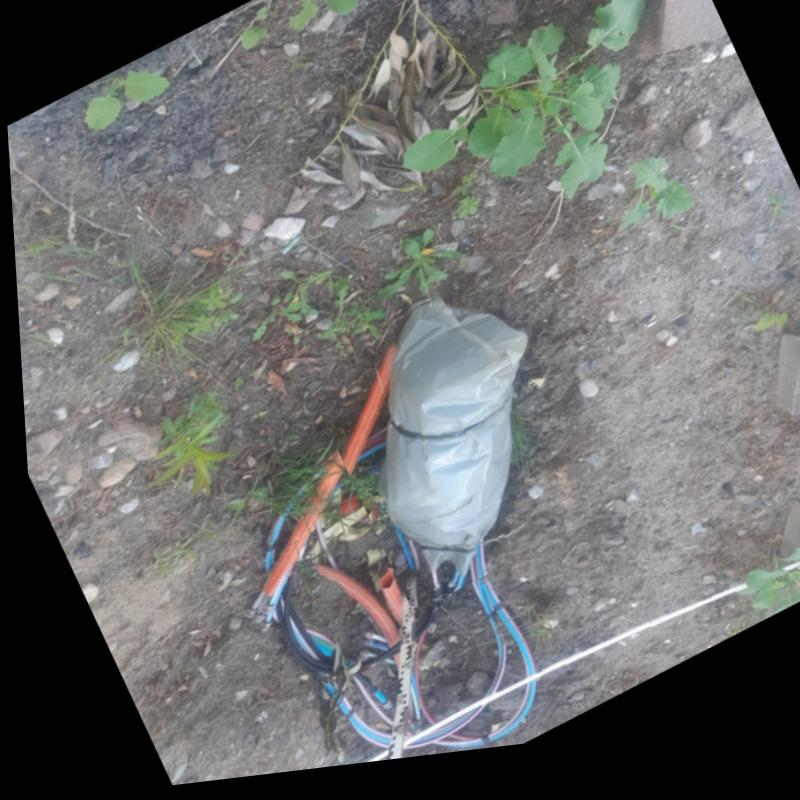NT-Muffen: (375, 299, 530, 600)
